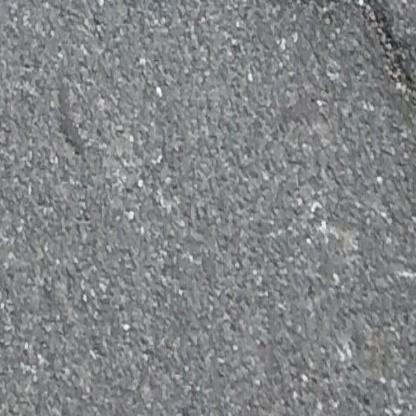Cracks: (346, 0, 416, 141)
